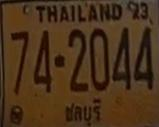0: (90, 28, 109, 90)
2: (67, 28, 89, 92)
4: (133, 26, 153, 89), (112, 27, 130, 90), (33, 32, 51, 92)
7: (10, 31, 29, 94)
CBI: (61, 97, 104, 127)
